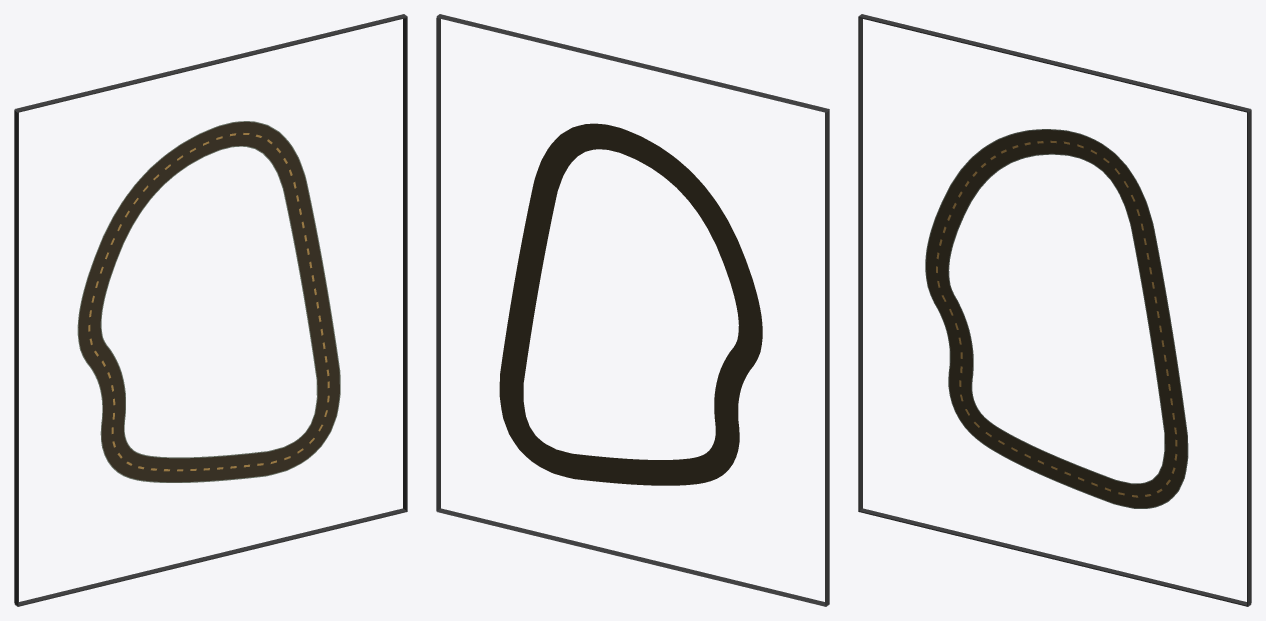
File: track.obj
3 views of the same model, side by side, from view 1: azimuth 30°, elevation 25°; view 2: azimuth 150°, elevation 25°; view 3: azimuth 330°, elevation 25° (orthographic).
Bounding box in the file's own units: 18.68 × 22.67 × 0.3.
4 materials, 4 textured.
